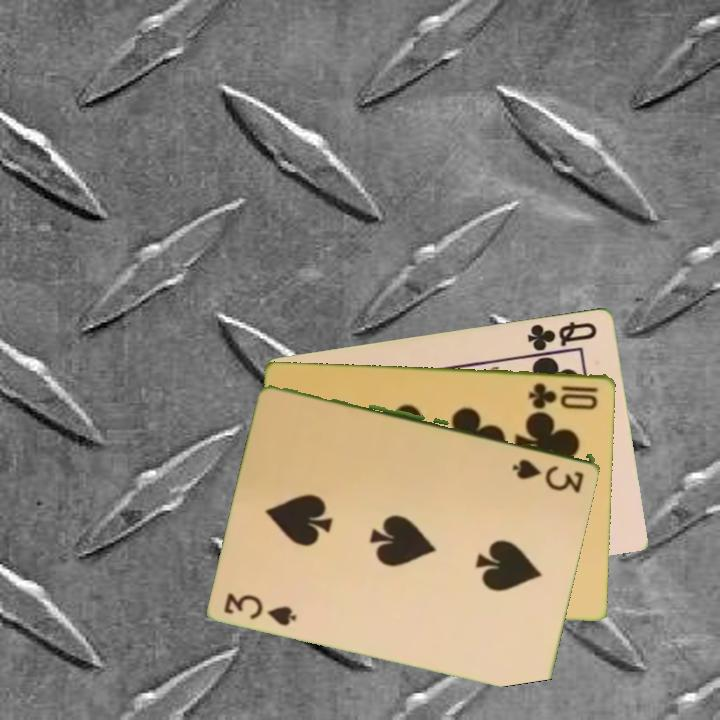10c: (526, 379, 601, 411)
3s: (220, 589, 300, 629), (508, 455, 588, 490)
Qc: (524, 317, 600, 354)
